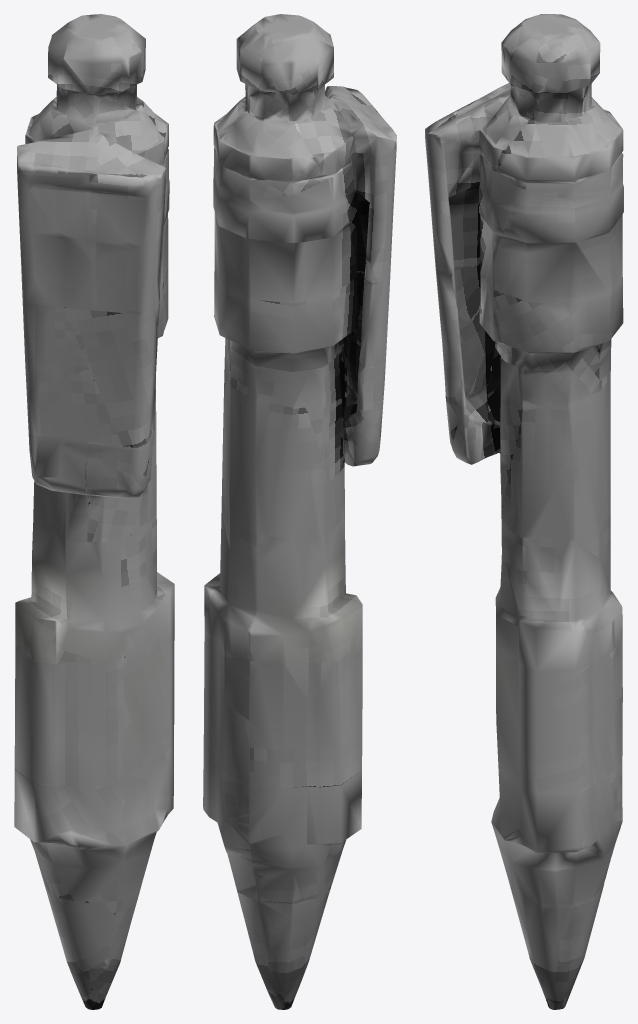
Rendered from s_mechanical_pencil.glb.
3 renders of one model, left to right at view 1: azimuth 30°, elevation 25°; view 2: azimuth 150°, elevation 25°; view 3: azimuth 270°, elevation 25°, orthographic.
Visible parts, largest first — view 1: tripo_node_1d0001a4-b9c7-4845-870e-1b3954632d38; view 2: tripo_node_1d0001a4-b9c7-4845-870e-1b3954632d38; view 3: tripo_node_1d0001a4-b9c7-4845-870e-1b3954632d38.
Boxes of the visible parts, bbox=[...] form: tripo_node_1d0001a4-b9c7-4845-870e-1b3954632d38: bbox=[14, 14, 174, 1009]; tripo_node_1d0001a4-b9c7-4845-870e-1b3954632d38: bbox=[203, 14, 396, 1009]; tripo_node_1d0001a4-b9c7-4845-870e-1b3954632d38: bbox=[425, 14, 623, 1009].
Bounding box in the file's own units: 0.1763 × 0.999 × 0.1835.
1 material, 1 textured.
